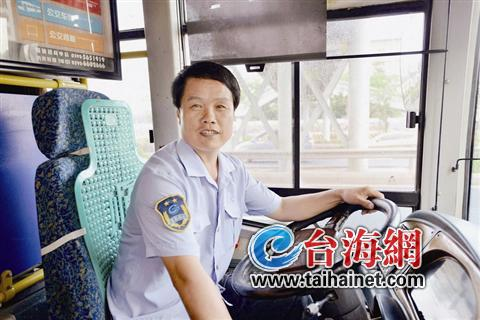other: (102, 59, 387, 315)
